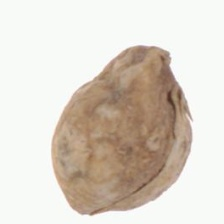L2: (50, 44, 194, 216)
